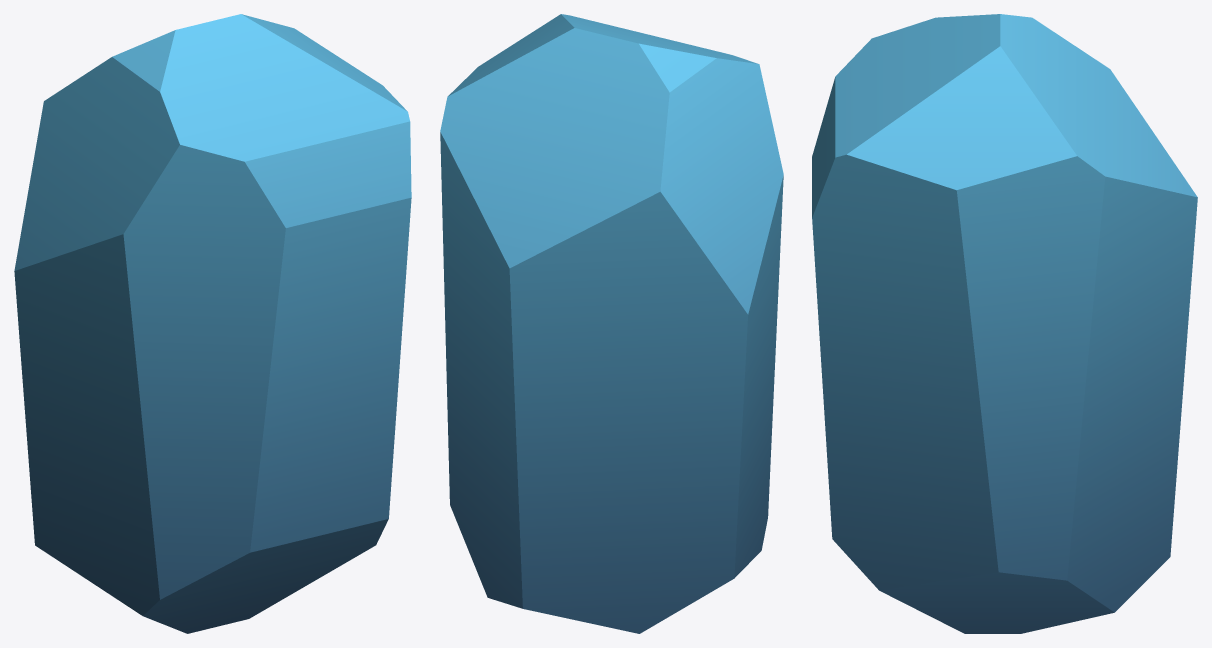
The model's file is Crystal_07.fbx.
3 views of the same model, side by side, from view 1: azimuth 30°, elevation 25°; view 2: azimuth 150°, elevation 25°; view 3: azimuth 270°, elevation 25° (orthographic). The views are drawn at different scales.
Visible parts, largest first — view 1: Crystal_07; view 2: Crystal_07; view 3: Crystal_07.
Boxes of the visible parts, bbox=[...] form: Crystal_07: bbox=[14, 14, 411, 633]; Crystal_07: bbox=[440, 14, 783, 633]; Crystal_07: bbox=[812, 14, 1197, 633].
Bounding box in the file's own units: 0.7325 × 1.28 × 0.7561.
